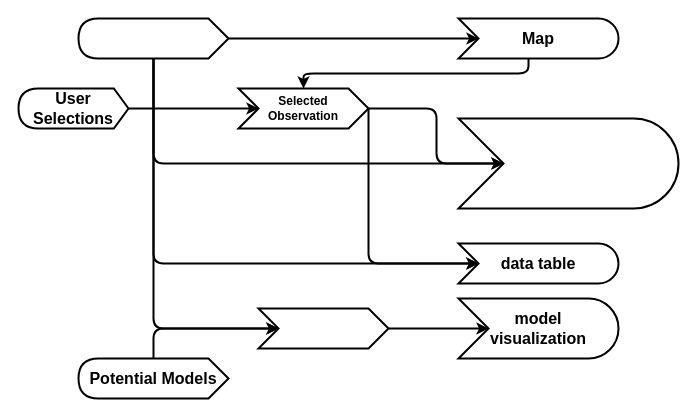
Some shapes in this 696 by 416 pixel diagram are drawn without their labels. The shapes that lost their labels are listed below. From the top down, each one's box as (x1, y1, x2, y2) in pixels, then its label:
(77, 17, 229, 59): Dataset
(457, 117, 679, 209): Descriptive Plots Bar/Hist...
(257, 307, 389, 349): Model Outputs
